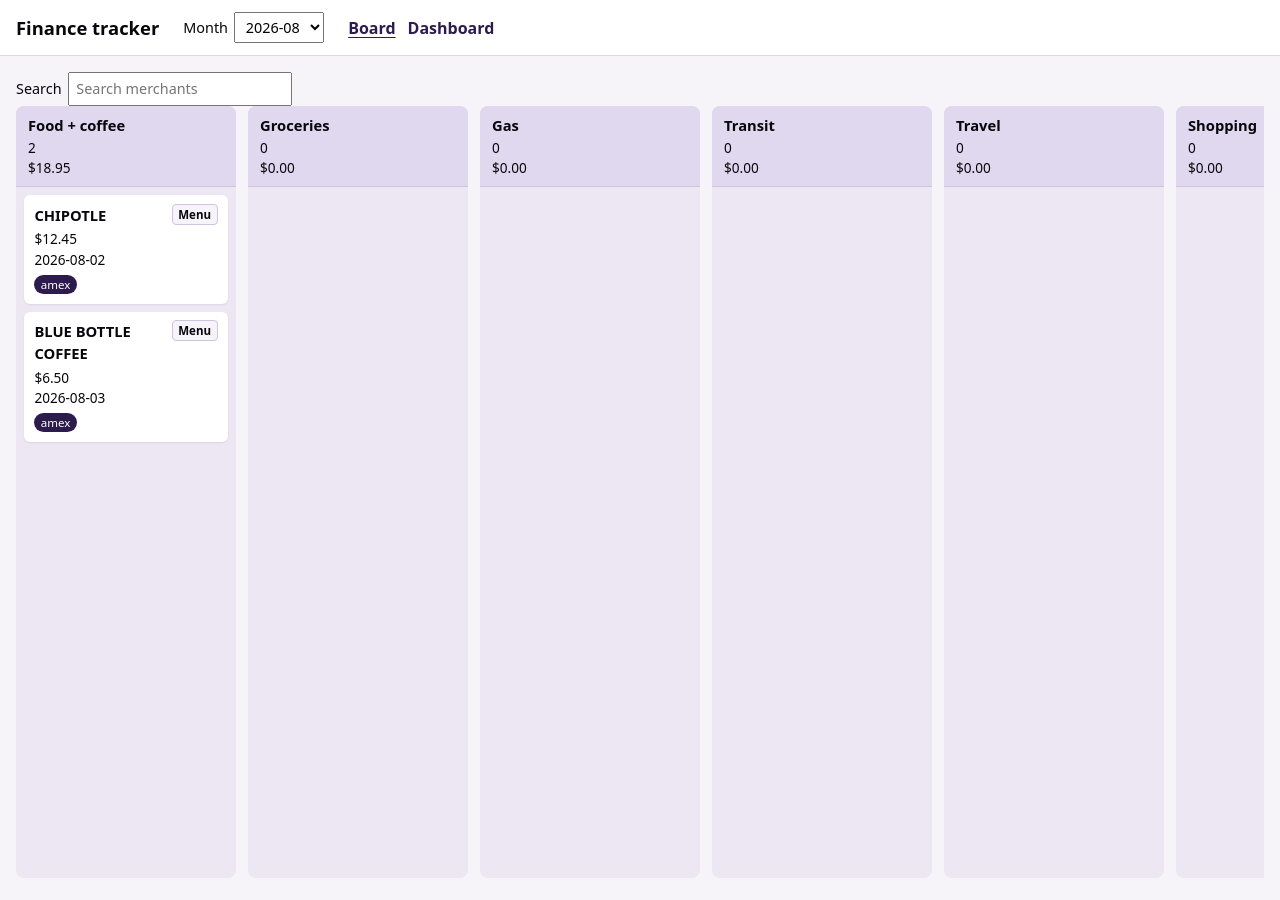
App month switcher › replaces August cards with only July transactions and does not PUT
Select "2026-07" in the dropdown labelled "Month": (279, 28) [234, 12, 324, 43]
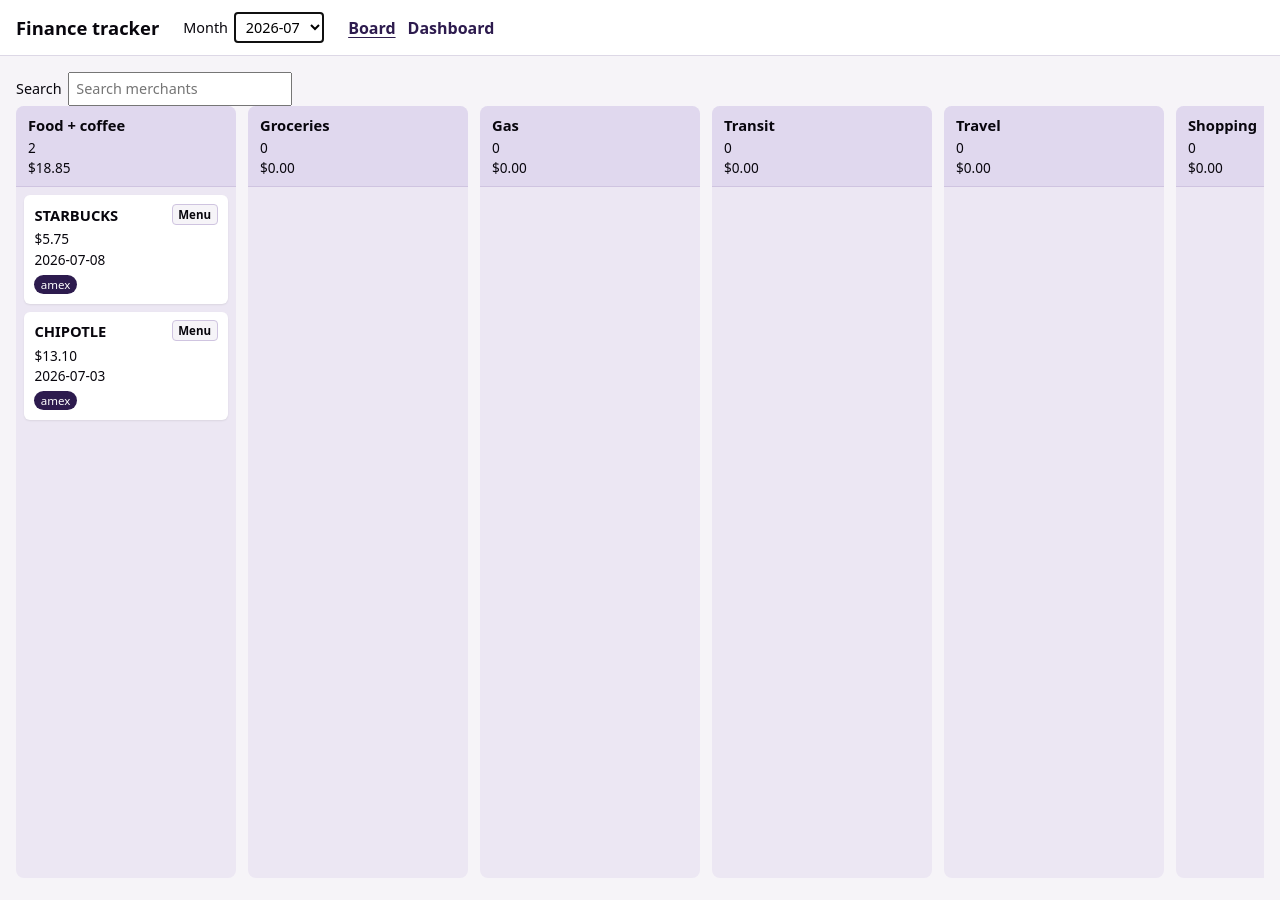
Expected: the text "2" is shown, [28, 138, 36, 156]
Now the button "BLUE BOTTLE COFFEE" no longer shows "BLUE BOTTLE COFFEE"
Now the text "$18.85" is shown, box [28, 158, 70, 177]
